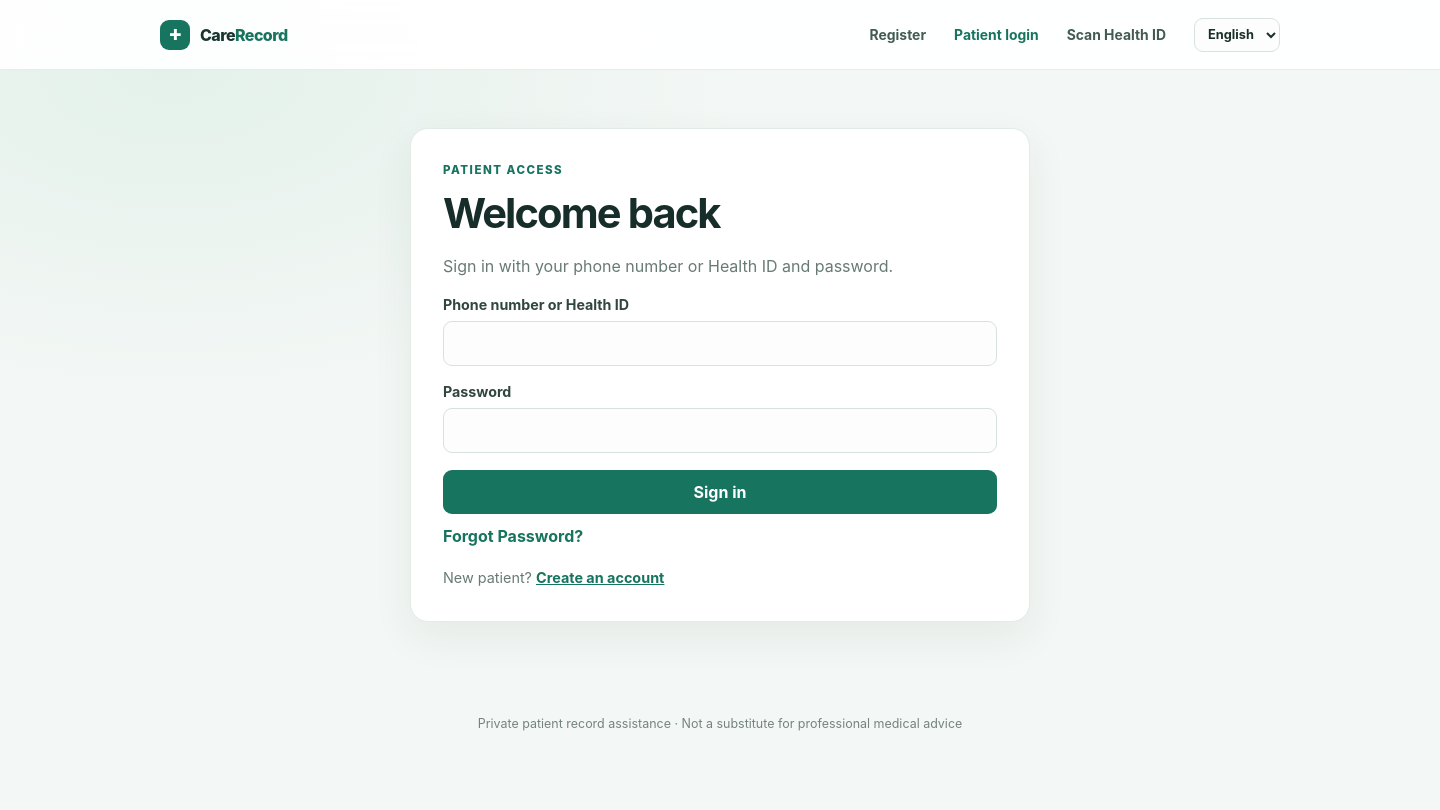
Test: patient web flow › shows an authentication error from the API
In the field labelled "Phone number or Health ID": (720, 344) x1=443 y1=321 x2=997 y2=366, type "MW123"
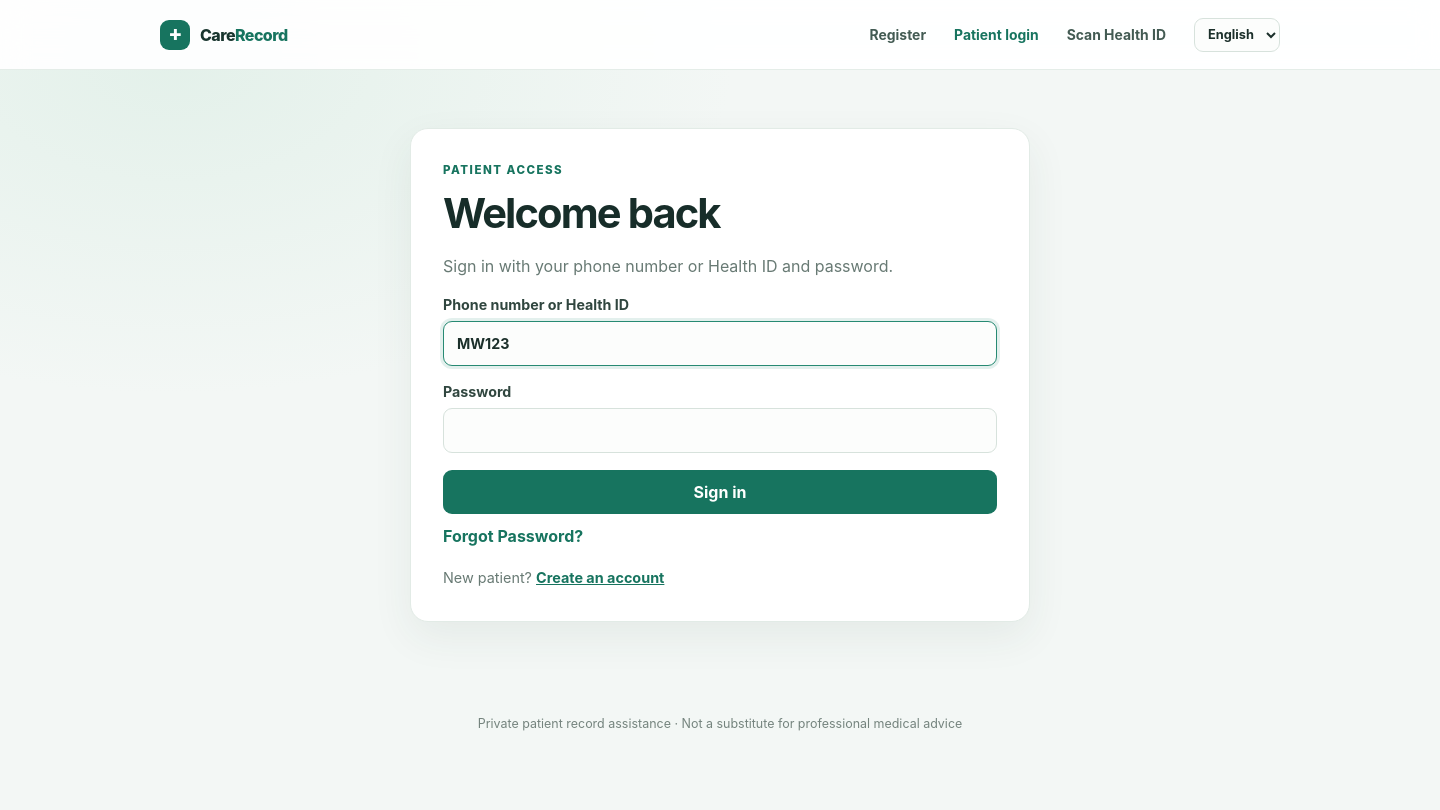
In the password field labelled "Password": (720, 430) x1=443 y1=408 x2=997 y2=453, type "incorrect-password"
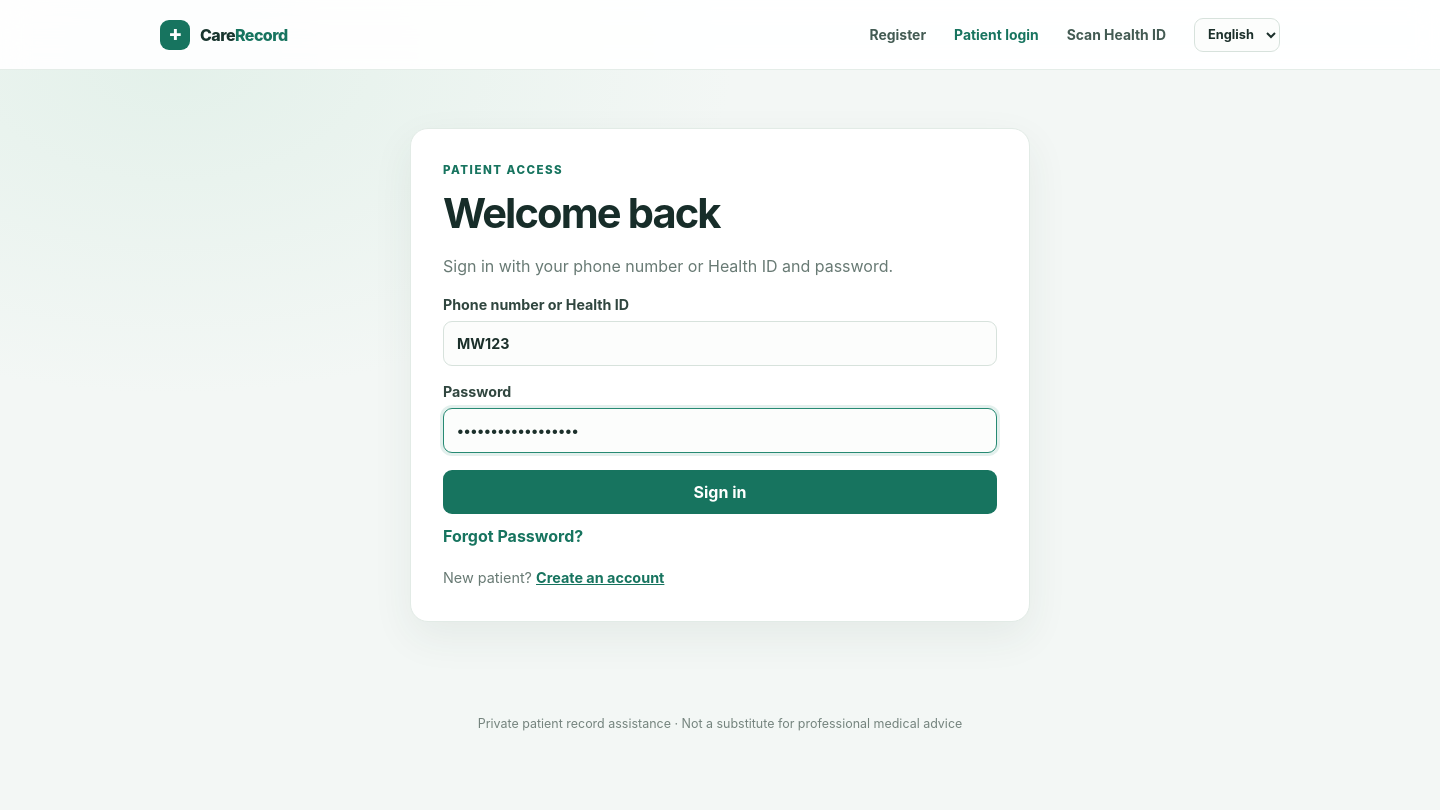
Click the button "Sign in": (720, 492) x1=443 y1=470 x2=997 y2=514
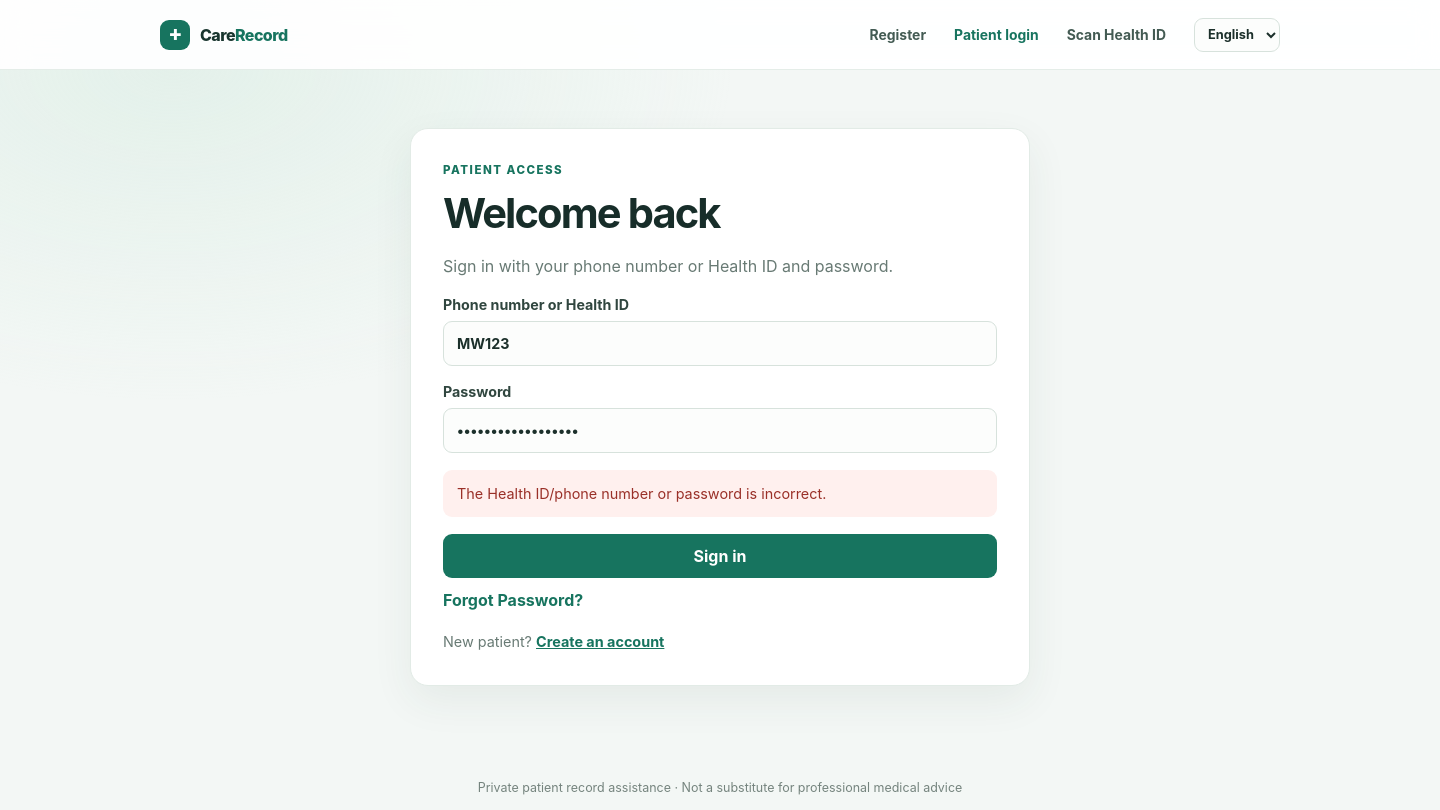
expect the message shows "password is incorrect": met, box x1=457 y1=485 x2=826 y2=502
